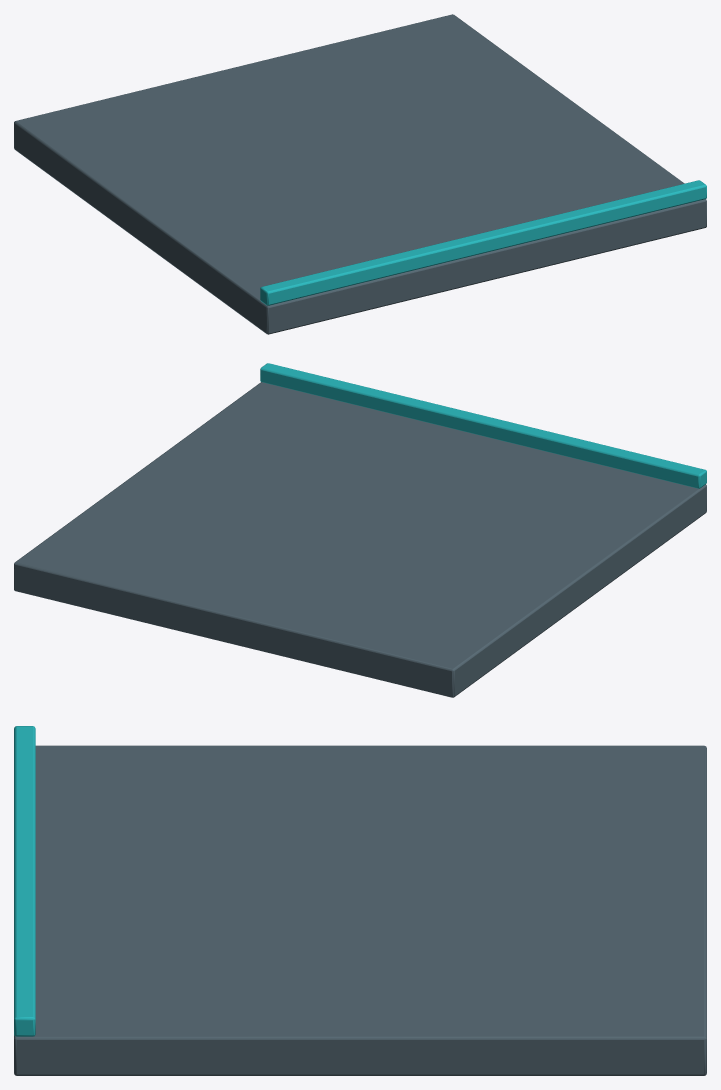
Rendered from MOD_Roof_01.glb.
3 renders of one model, top to bottom at view 1: azimuth 30°, elevation 25°; view 2: azimuth 150°, elevation 25°; view 3: azimuth 270°, elevation 25°, orthographic. The views are drawn at different scales.
Visible parts, largest first — view 1: MOD_Roof_01; view 2: MOD_Roof_01; view 3: MOD_Roof_01.
Boxes of the visible parts, box(x1,y1,x2,y2) form: MOD_Roof_01: box(14, 14, 706, 334); MOD_Roof_01: box(14, 363, 706, 697); MOD_Roof_01: box(14, 726, 706, 1075).
Bounding box in the file's own units: 4 × 0.375 × 4.
